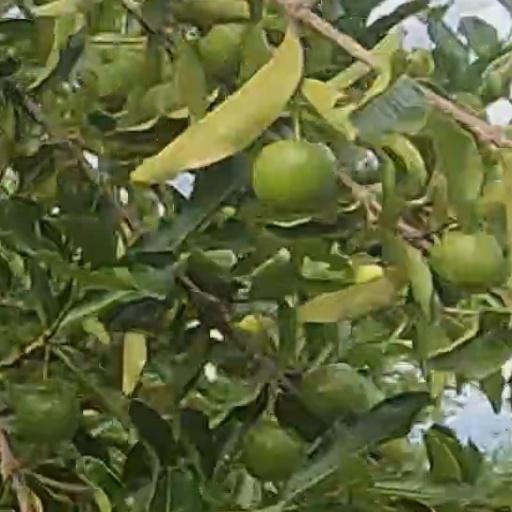acerola: (256, 143, 334, 216), (15, 380, 79, 441), (434, 233, 502, 284), (247, 429, 303, 480)
